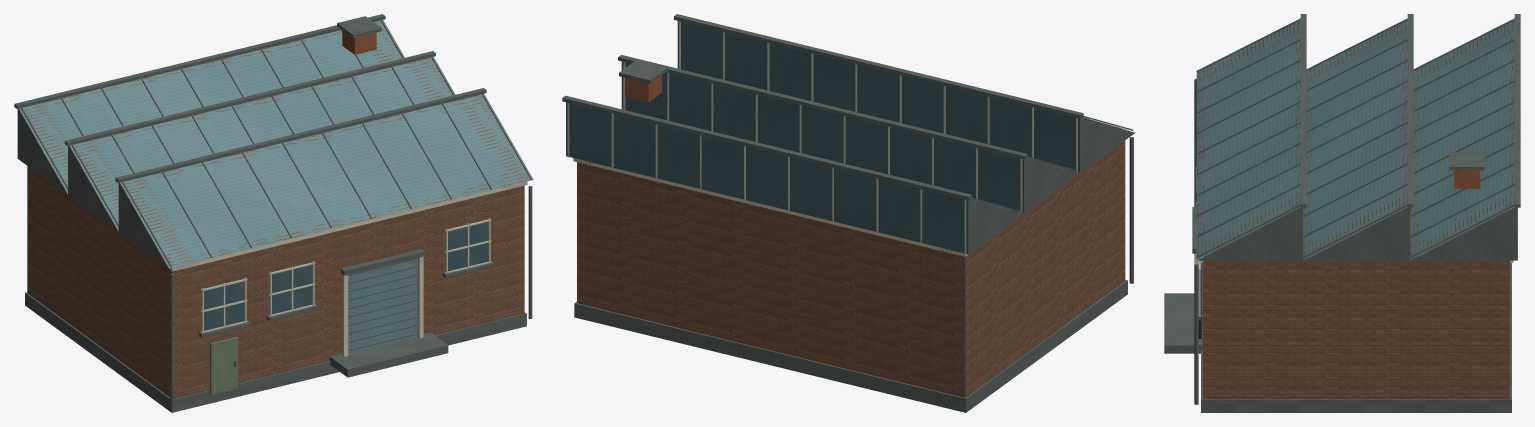
File: BackdropSawtoothWorks.fbx
3 renders of one model, left to right at view 1: azimuth 30°, elevation 25°; view 2: azimuth 150°, elevation 25°; view 3: azimuth 270°, elevation 25°, orthographic. The views are drawn at different scales.
Parts seen in each view (by area): view 1: BackdropSawtoothWorks; view 2: BackdropSawtoothWorks; view 3: BackdropSawtoothWorks.
Part boxes in pixels (x1=…): BackdropSawtoothWorks: x1=14, y1=14, x2=533, y2=412; BackdropSawtoothWorks: x1=562, y1=14, x2=1135, y2=412; BackdropSawtoothWorks: x1=1164, y1=14, x2=1520, y2=412.
Bounding box in the file's own units: 1465 × 832 × 1159.
